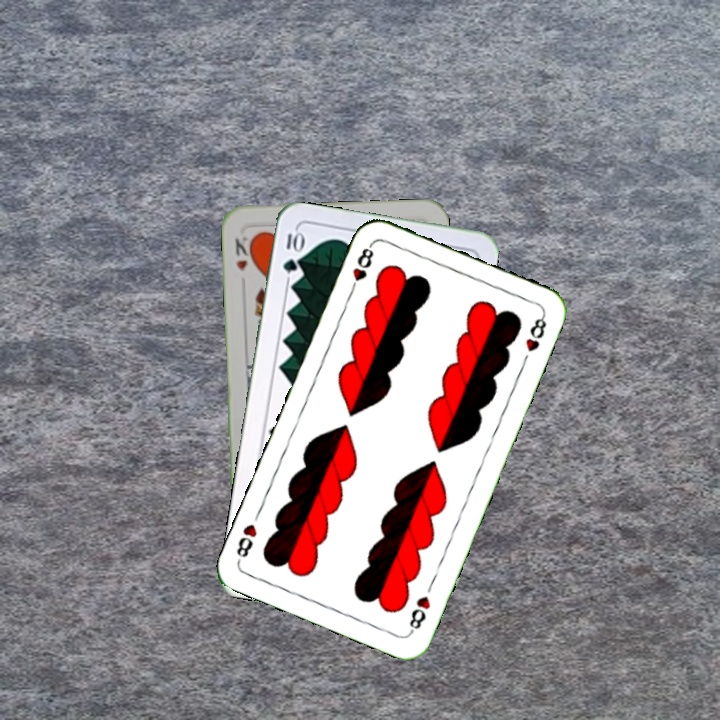G10: (279, 226, 305, 276)
H8: (346, 240, 376, 297), (405, 591, 433, 636)
HK: (231, 230, 256, 274)
